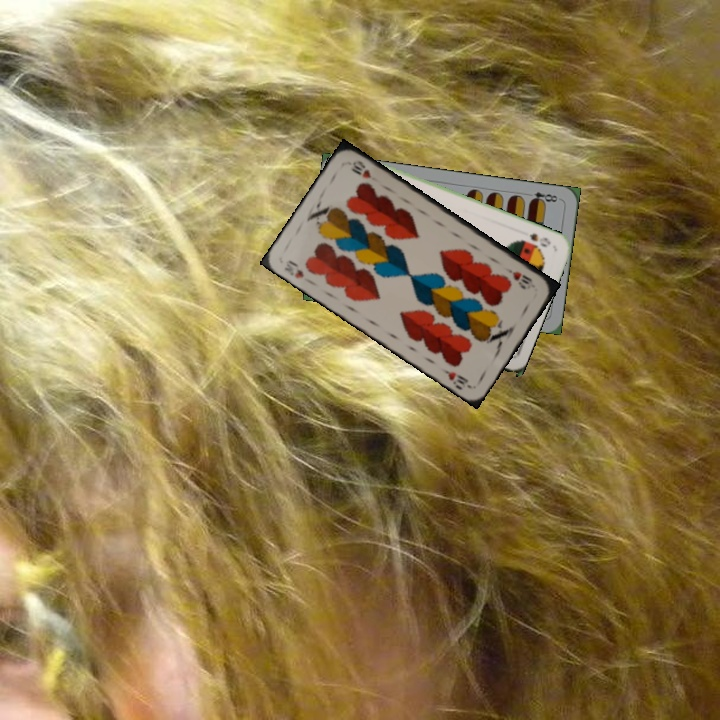E8: (522, 188, 563, 206)
H10: (502, 264, 535, 287), (280, 256, 306, 281)
SO: (517, 229, 554, 250)
